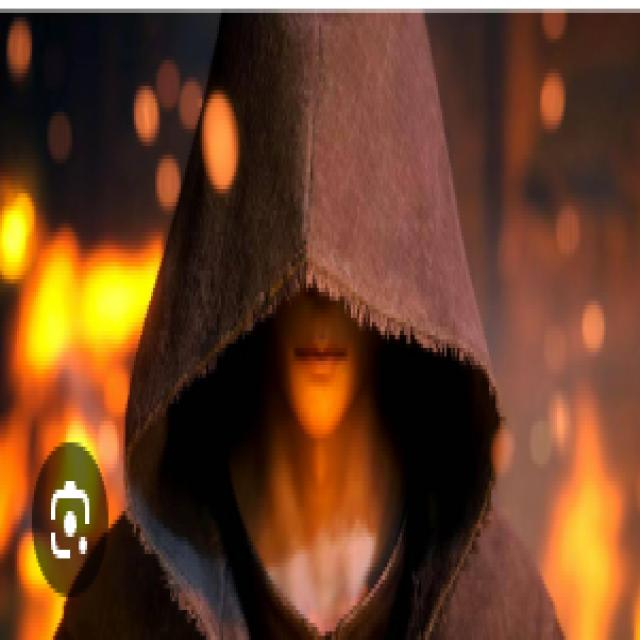4_capucha: (122, 13, 502, 640)
